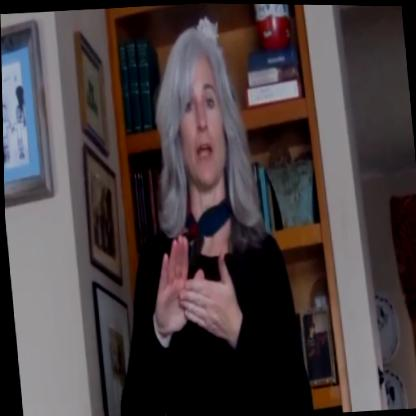NiceToMeetYou: (138, 219, 245, 369)
